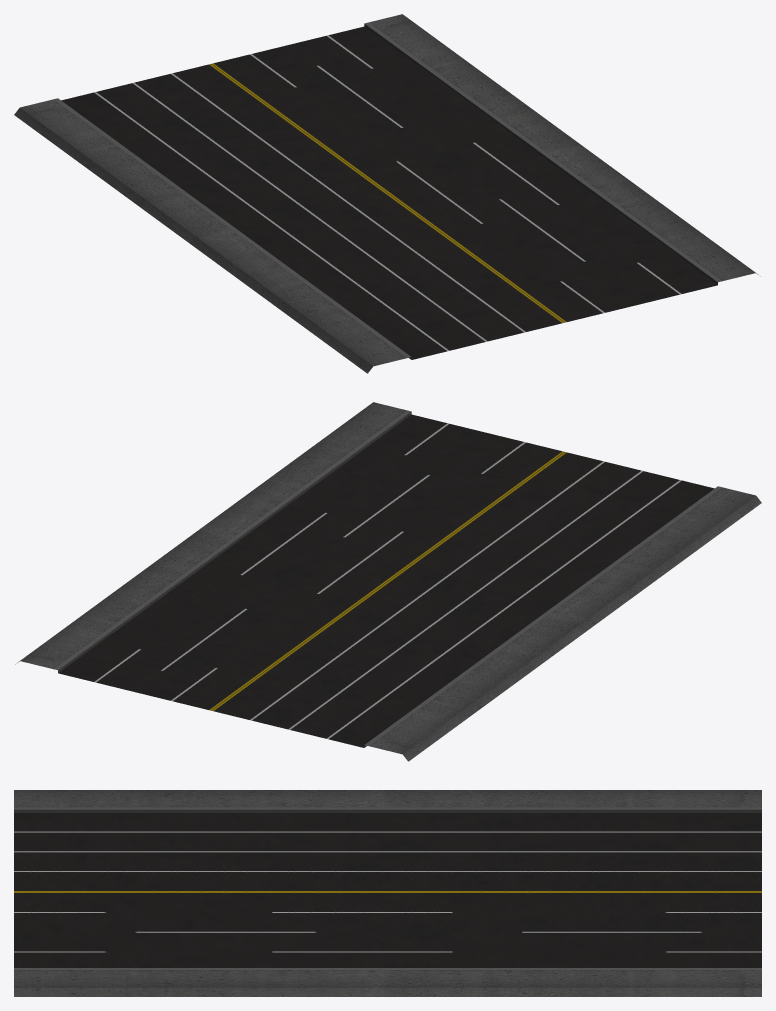
Rendered from RJs_Road 4+4 Basic Segment_F.fbx.
The picture shows the model from 3 angles, top to bottom: view 1: azimuth 30°, elevation 25°; view 2: azimuth 150°, elevation 25°; view 3: azimuth 270°, elevation 25°; orthographic projection. The views are drawn at different scales.
Parts seen in each view (by area): view 1: plane; view 2: plane; view 3: plane.
Boxes of the visible parts, bbox=[...] form: plane: bbox=[14, 14, 760, 373]; plane: bbox=[15, 402, 761, 761]; plane: bbox=[14, 790, 761, 996].
Size of the model in its own units: 4120 by 60.1 by 6400.
